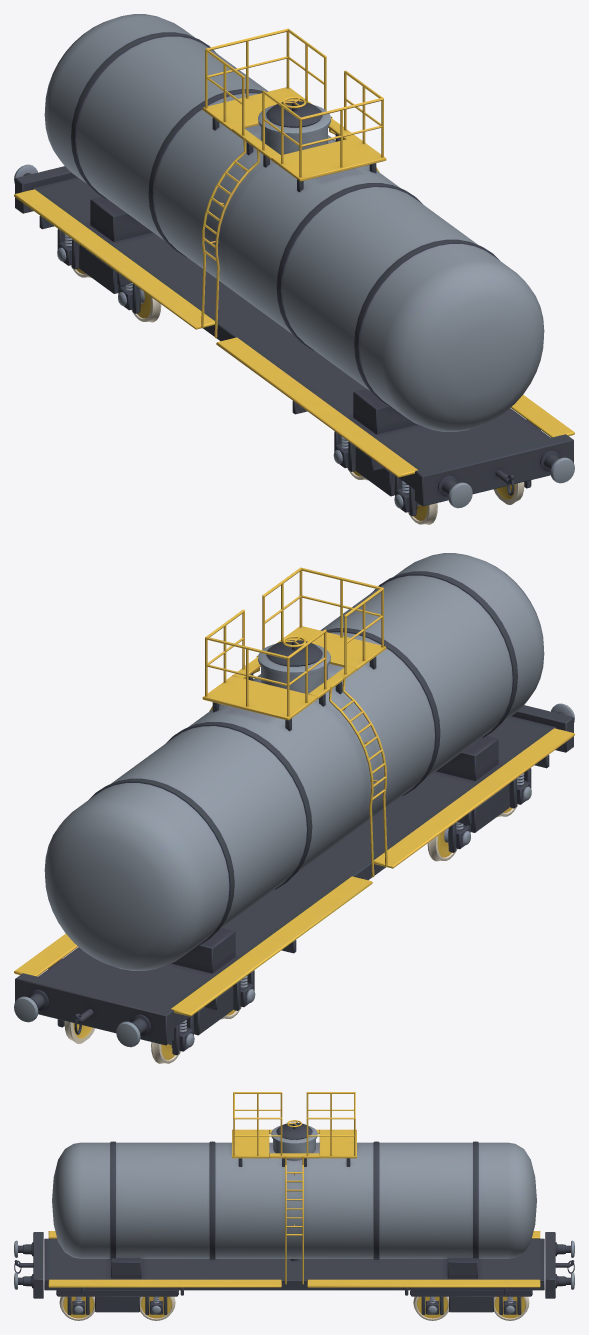
File: tank-car.glb
The picture shows the model from 3 angles, top to bottom: view 1: azimuth 30°, elevation 25°; view 2: azimuth 150°, elevation 25°; view 3: azimuth 270°, elevation 25°; orthographic projection. The views are drawn at different scales.
Visible parts, largest first — view 1: tank-car_body; view 2: tank-car_body; view 3: tank-car_body.
Part boxes in pixels (<box>): tank-car_body: <box>14,14,574,524</box>; tank-car_body: <box>14,553,574,1063</box>; tank-car_body: <box>14,1092,574,1320</box>.
Bounding box in the file's own units: 3.04 × 5.15 × 13.
1 material, 1 textured.
